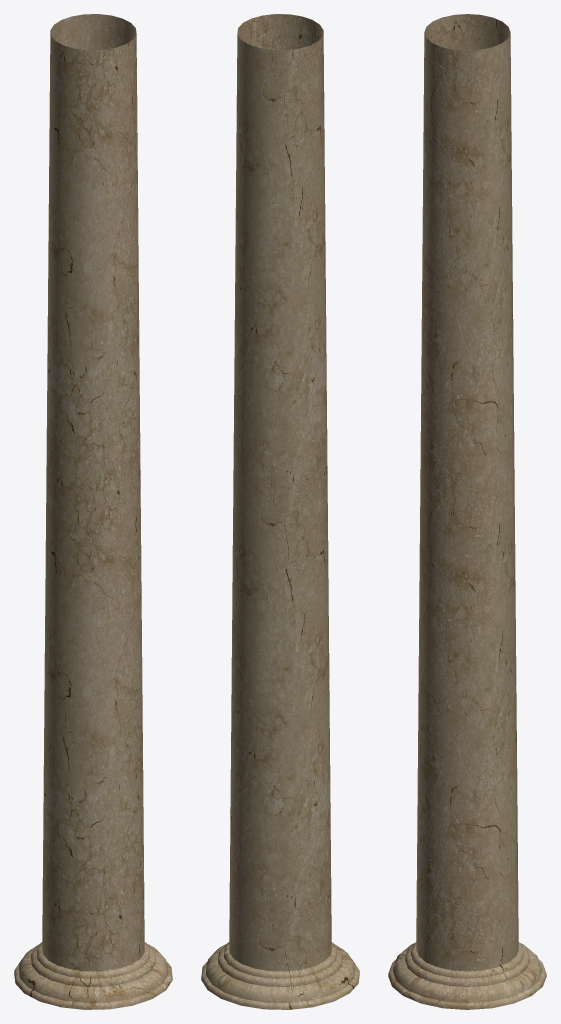
The model's file is stone_column_975.fbx.
3 renders of one model, left to right at view 1: azimuth 30°, elevation 25°; view 2: azimuth 150°, elevation 25°; view 3: azimuth 270°, elevation 25°, orthographic.
Parts seen in each view (by area): view 1: stone_column_975; view 2: stone_column_975; view 3: stone_column_975.
Boxes of the visible parts, x1,y1,x2,y2 form: stone_column_975: (14, 14, 172, 1009); stone_column_975: (201, 14, 359, 1009); stone_column_975: (388, 14, 546, 1009).
Bounding box in the file's own units: 25.73 × 168 × 25.54.
